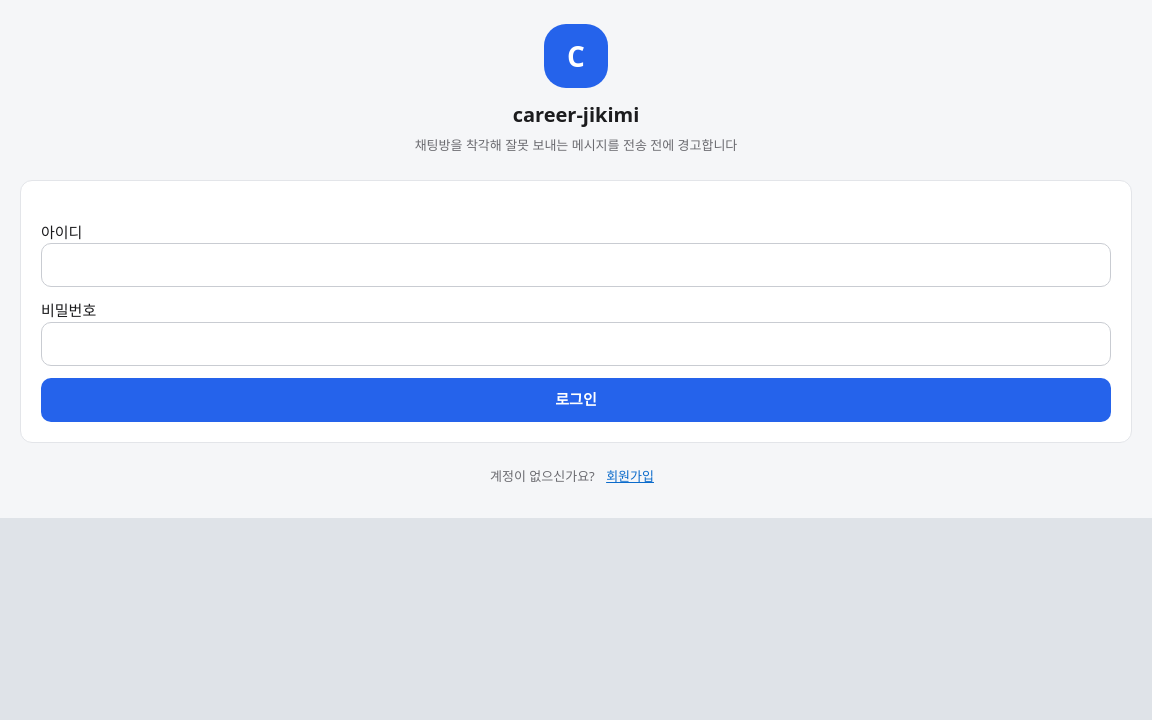
Scenario: AuthView 로그인 › 서버에 닿지 못하면 그 문구를 보여주고 토큰을 남기지 않는다
In the field labelled "아이디": (576, 265) [41,243,1111,287], type "alice"
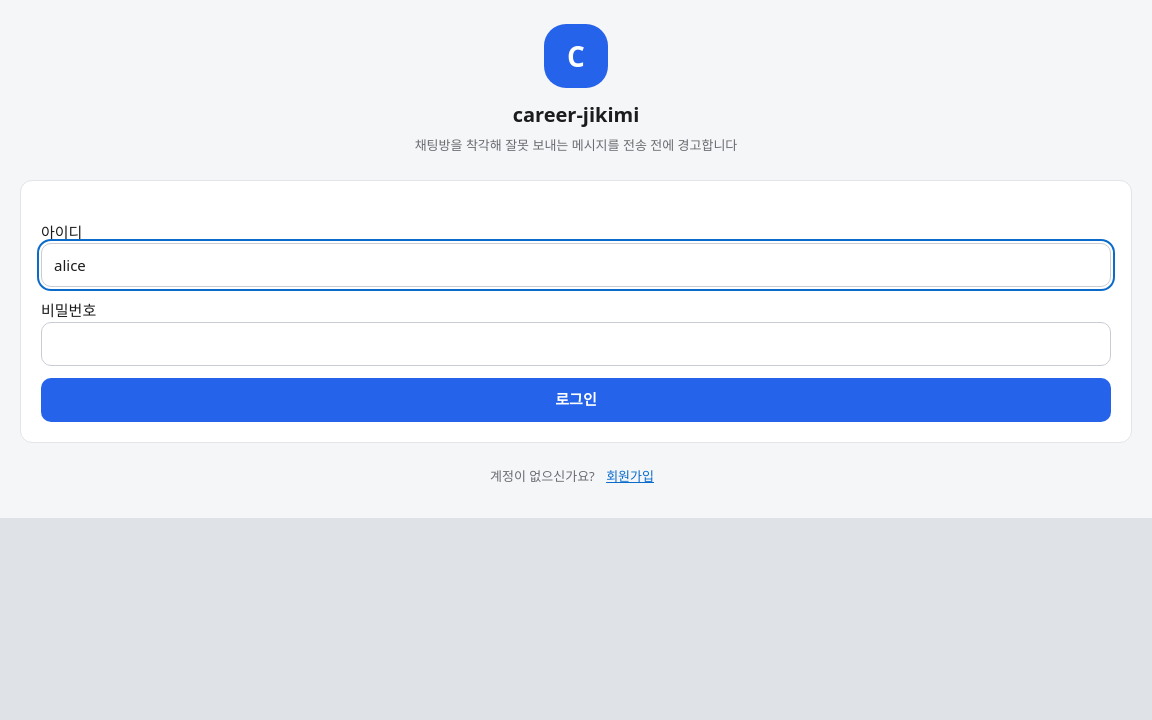
In the password field labelled "비밀번호": (576, 344) [41,322,1111,366], type "pw123456"
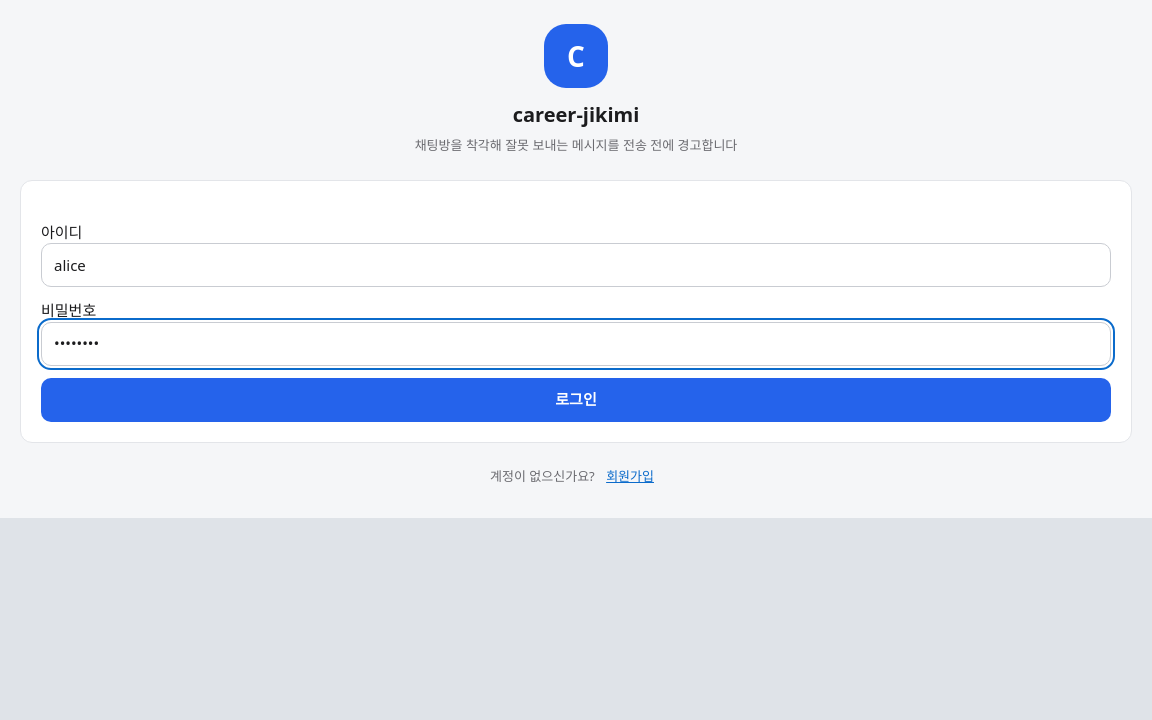
Click the button with test id "auth-login-submit": (576, 400) [41,378,1111,422]
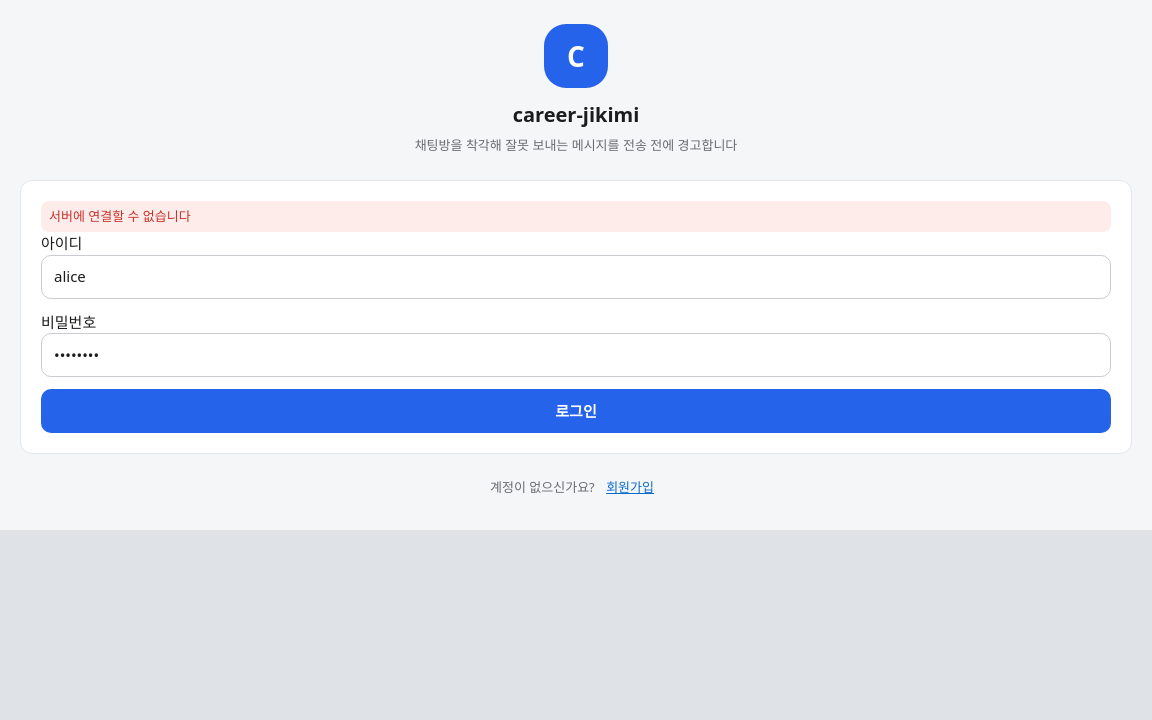
Expected: the button with test id "auth-login-submit" is enabled, [41,389,1111,433]
Result: the text with test id "auth-error" reads "서버에 연결할 수 없습니다" at [49,206,191,224]
